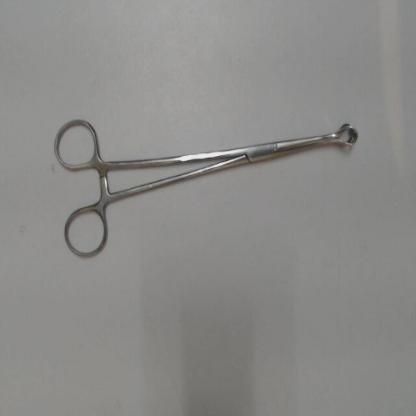8 Babcock Tissue Forceps: (50, 110, 365, 265)
